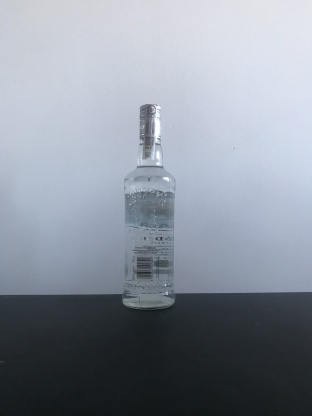nakretka: (137, 100, 163, 142)
